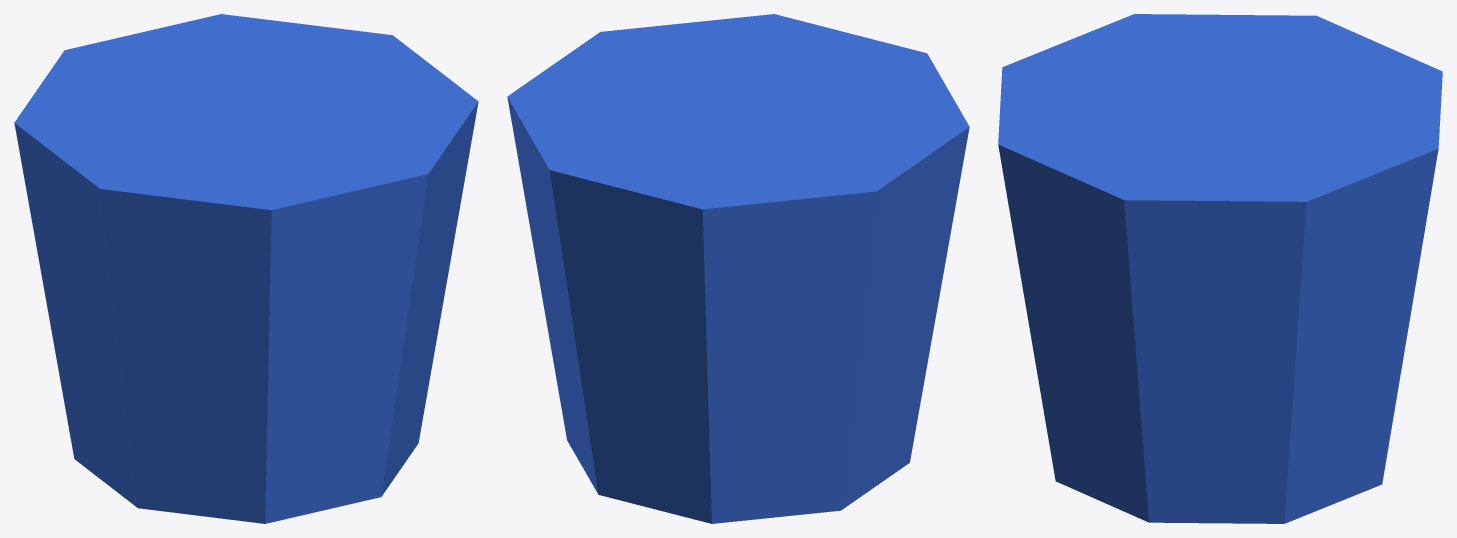
File: Collision_Bucket_Metal.fbx
3 renders of one model, left to right at view 1: azimuth 30°, elevation 25°; view 2: azimuth 150°, elevation 25°; view 3: azimuth 270°, elevation 25°, orthographic. The views are drawn at different scales.
Parts seen in each view (by area): view 1: UCX_Bucket_Metal_1; view 2: UCX_Bucket_Metal_1; view 3: UCX_Bucket_Metal_1.
Part boxes in pixels (x1=…): UCX_Bucket_Metal_1: x1=14, y1=14, x2=478, y2=523; UCX_Bucket_Metal_1: x1=507, y1=14, x2=969, y2=523; UCX_Bucket_Metal_1: x1=998, y1=14, x2=1442, y2=523.
Size of the model in its own units: 41.83 by 35.96 by 41.83.
